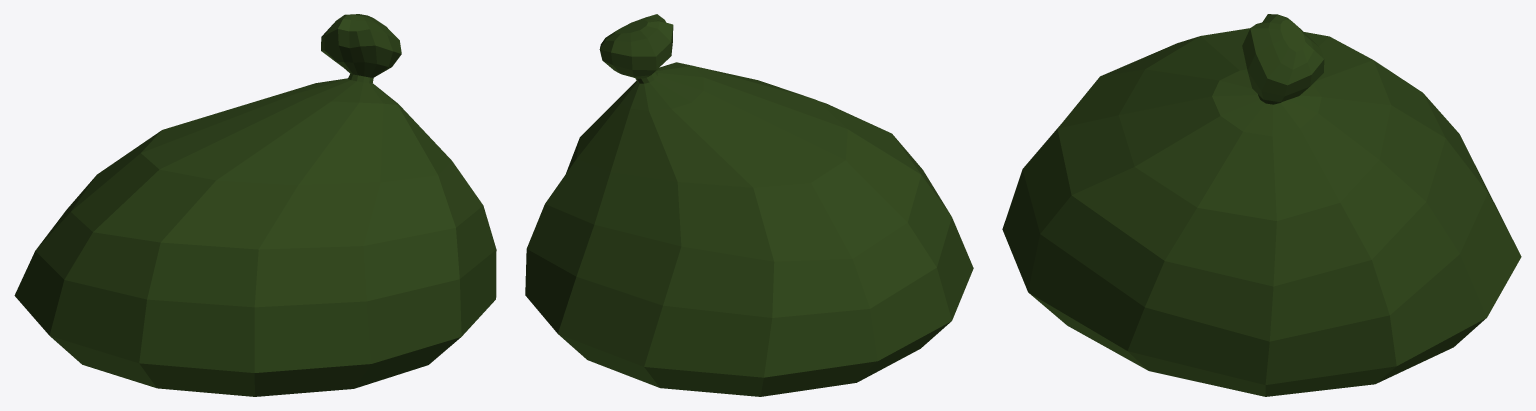
The model's file is TrashBag.fbx.
3 views of the same model, side by side, from view 1: azimuth 30°, elevation 25°; view 2: azimuth 150°, elevation 25°; view 3: azimuth 270°, elevation 25° (orthographic). The views are drawn at different scales.
Visible parts, largest first — view 1: Circle; view 2: Circle; view 3: Circle.
Part boxes in pixels (x1=…): Circle: x1=14, y1=14, x2=496, y2=396; Circle: x1=525, y1=14, x2=973, y2=396; Circle: x1=1002, y1=14, x2=1521, y2=396.
Bounding box in the file's own units: 206 × 143 × 199.
